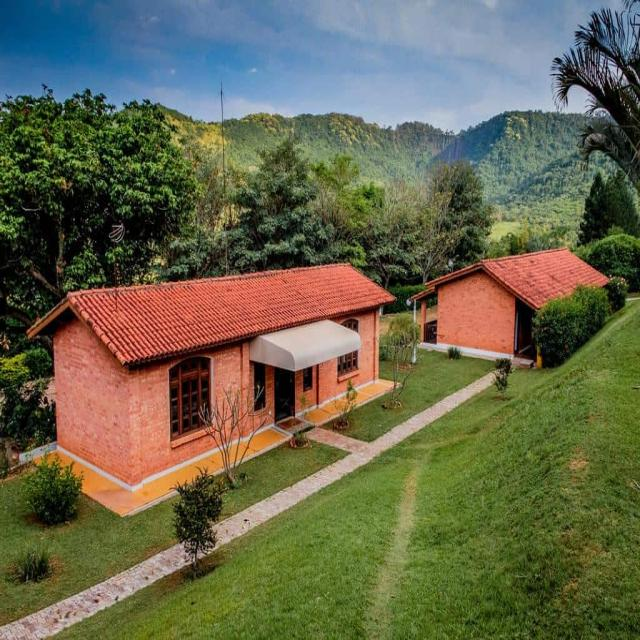Fachada: (28, 263, 393, 490), (412, 248, 609, 358)
